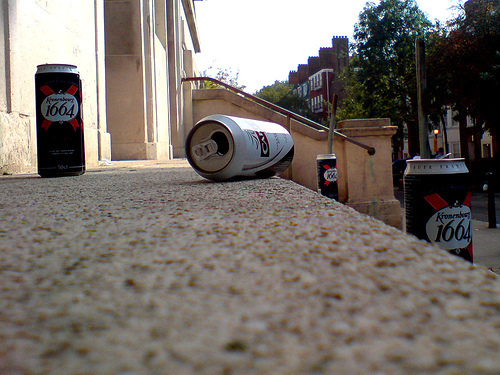litter: (401, 156, 474, 266), (184, 113, 294, 182), (33, 62, 84, 176), (316, 153, 340, 206)
